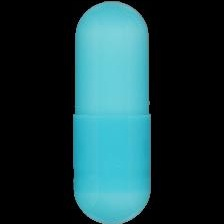59762-5010: (0, 0, 224, 224)
